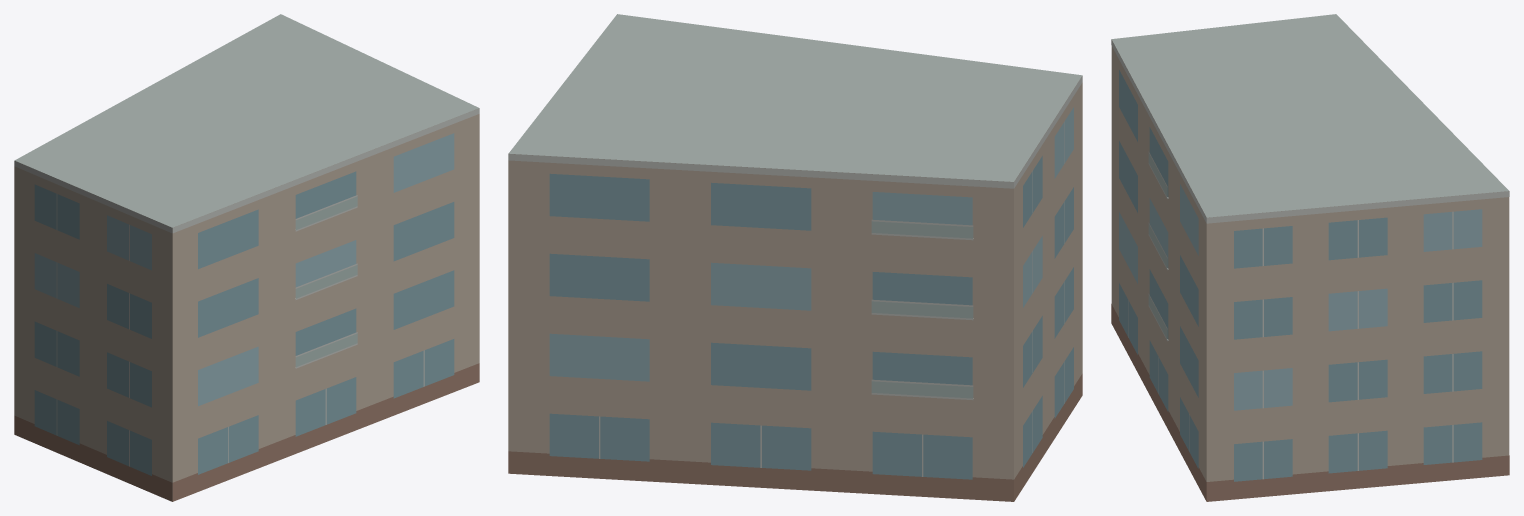
File: survey-upis-32966039.glb
The picture shows the model from 3 angles, left to right: view 1: azimuth 30°, elevation 25°; view 2: azimuth 150°, elevation 25°; view 3: azimuth 270°, elevation 25°; orthographic projection. The views are drawn at different scales.
Parts seen in each view (by area): view 1: survey-upis-32966039.tmp; view 2: survey-upis-32966039.tmp; view 3: survey-upis-32966039.tmp.
Boxes of the visible parts, left/top/right/bottom form: survey-upis-32966039.tmp: left=14, top=14, right=479, bottom=501; survey-upis-32966039.tmp: left=508, top=14, right=1082, bottom=501; survey-upis-32966039.tmp: left=1111, top=14, right=1509, bottom=501.
Size of the model in its own units: 17.84 by 11.6 by 14.73.
